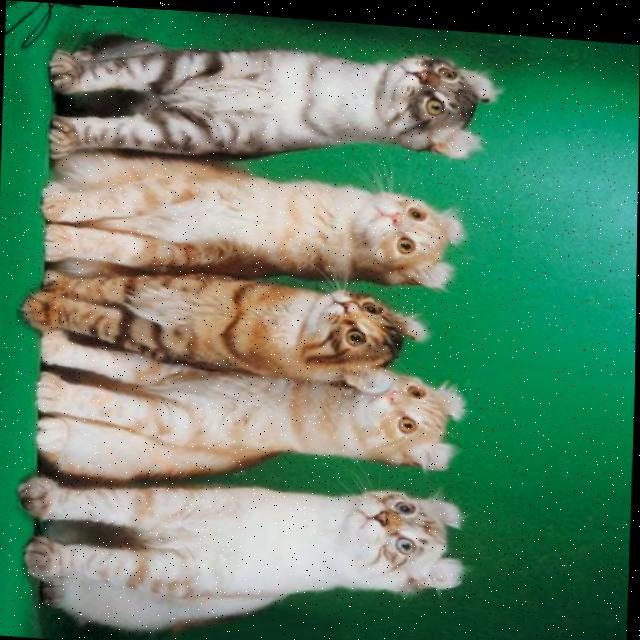American Curl: (13, 458, 473, 640), (44, 20, 502, 183), (31, 342, 471, 507), (37, 143, 468, 293), (16, 255, 432, 394)
